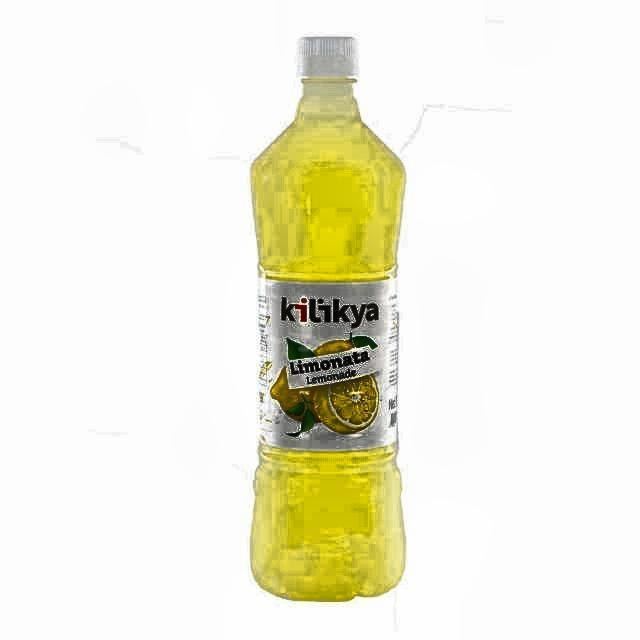plastic: (248, 34, 408, 605)
